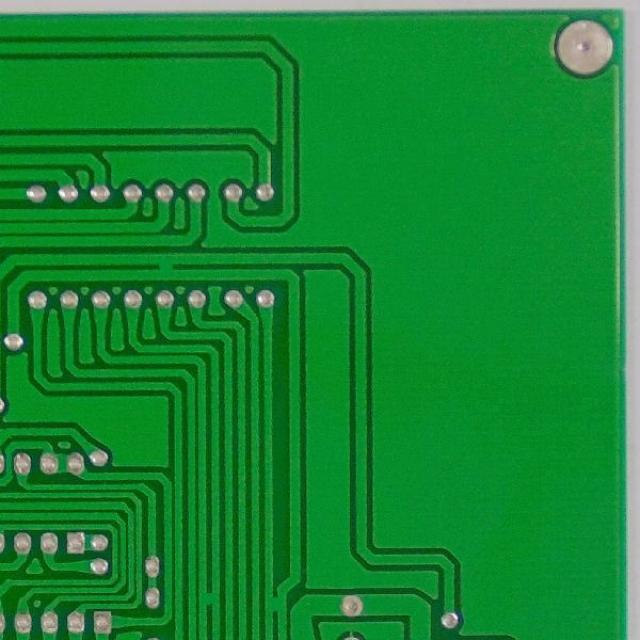short: (148, 252, 184, 282), (196, 585, 222, 611), (264, 593, 292, 616)
